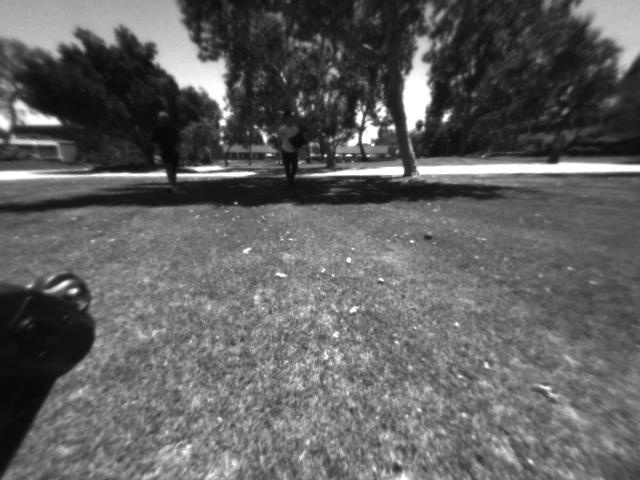dogtoy: (421, 226, 438, 247)
